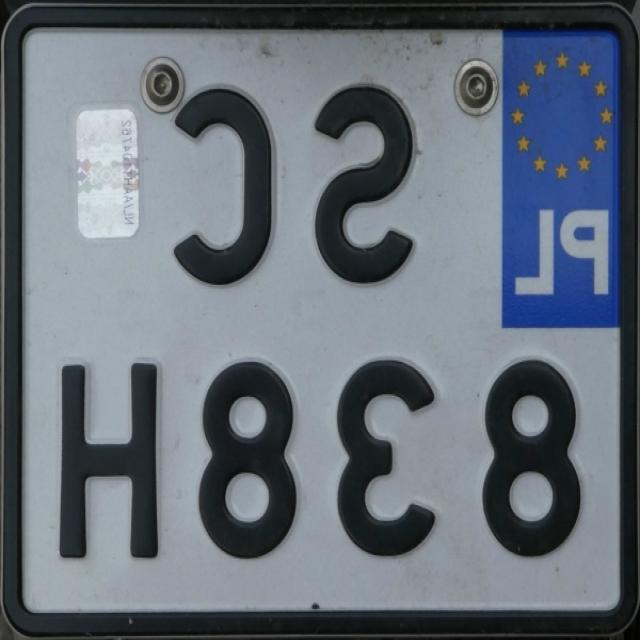pl_license_plate: (23, 28, 621, 613)
